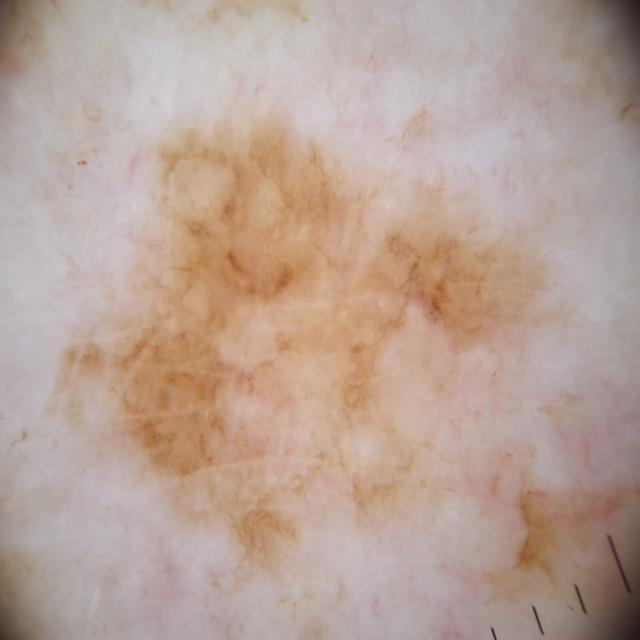Skin-Cancer Melanoma: (13, 6, 608, 640)
